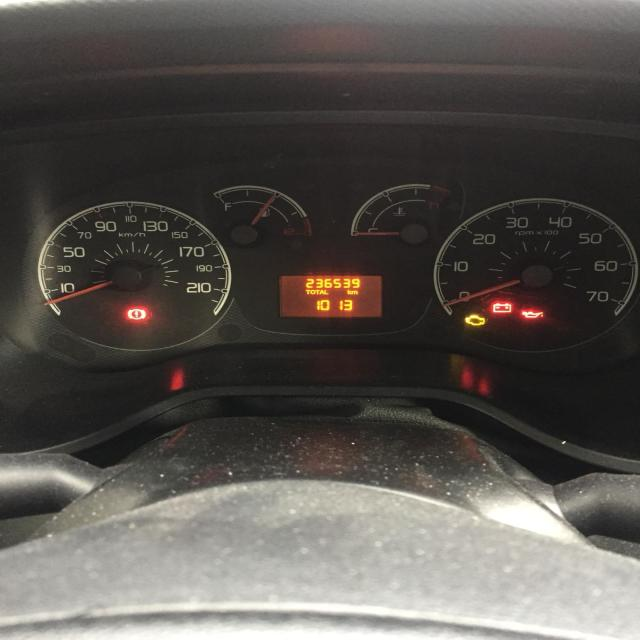odometer: (278, 274, 382, 317)
